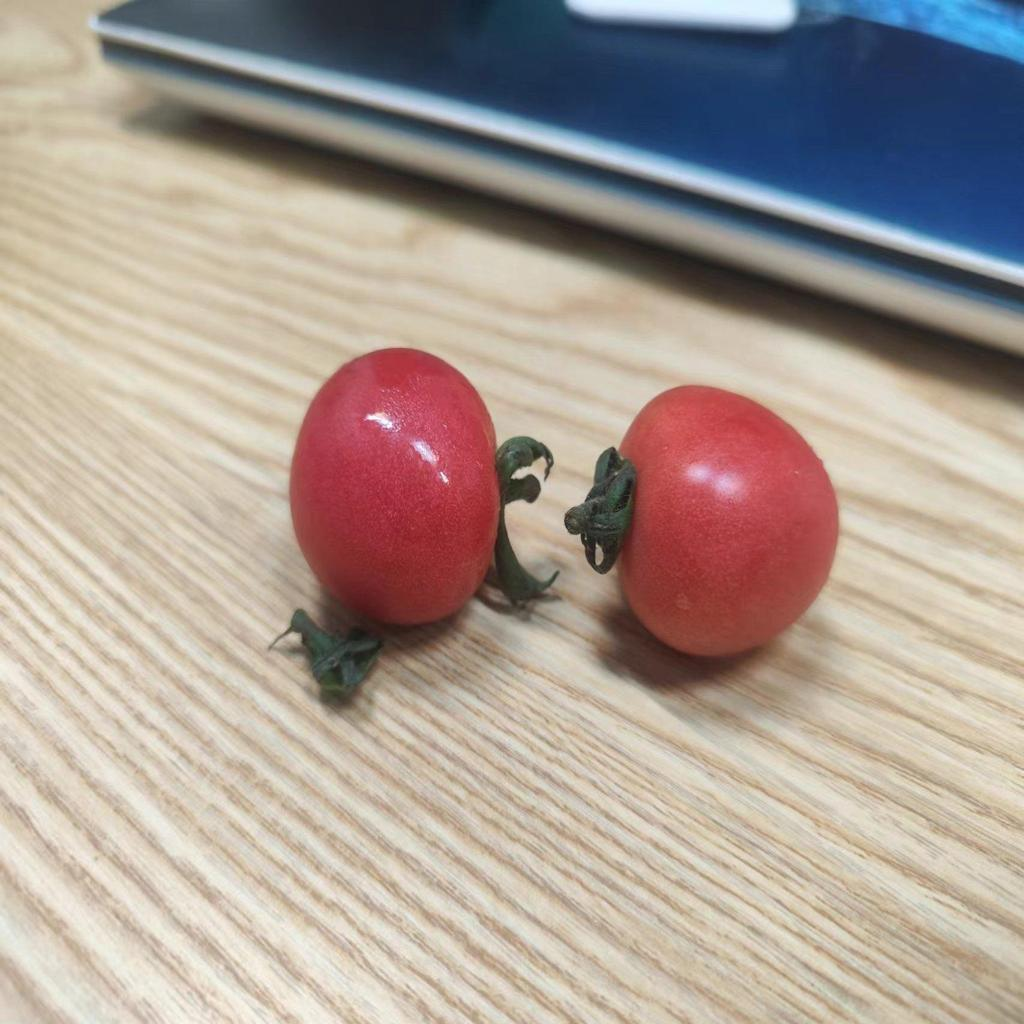tomato: (589, 376, 842, 672), (282, 340, 511, 631)
